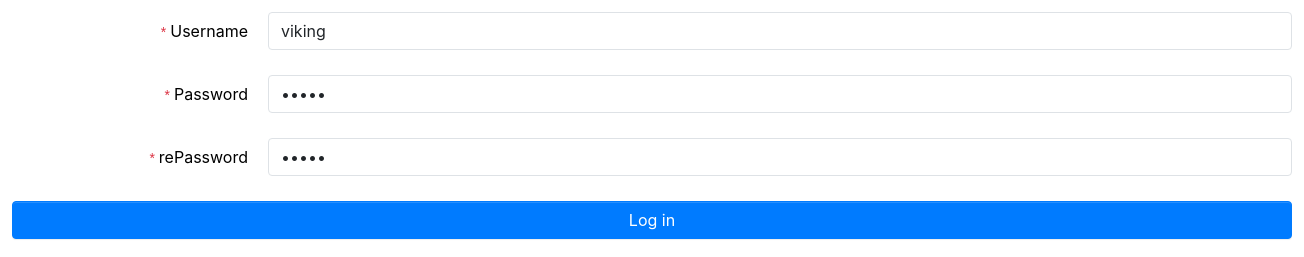
testing Form component › submit form with invaild values should show the error message
Clear the field showing "viking" at (780, 31), box [268,12,1292,50]
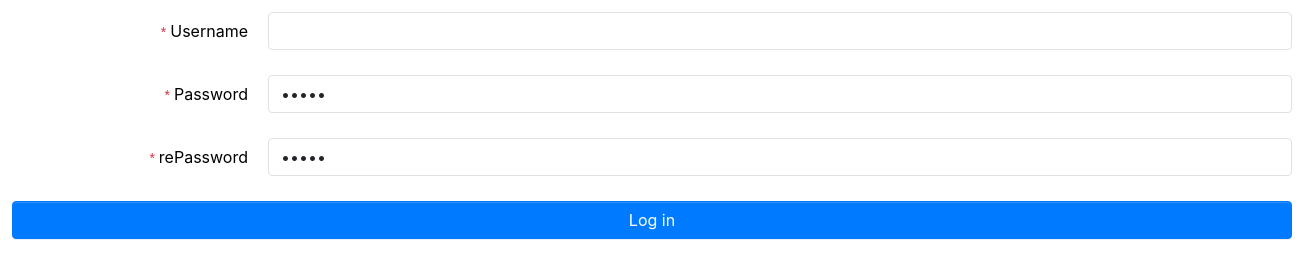
Clear the 1st password field showing "12345" at (780, 94), box [268,75,1292,113]
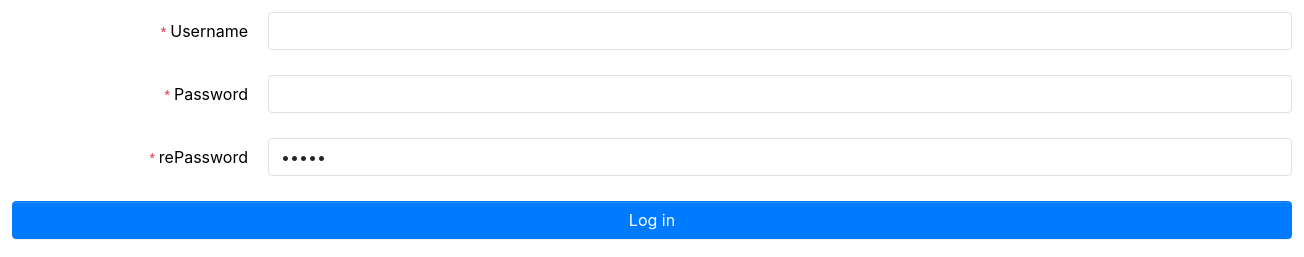
Click the button "Log in" at (652, 220), box [12,201,1292,239]
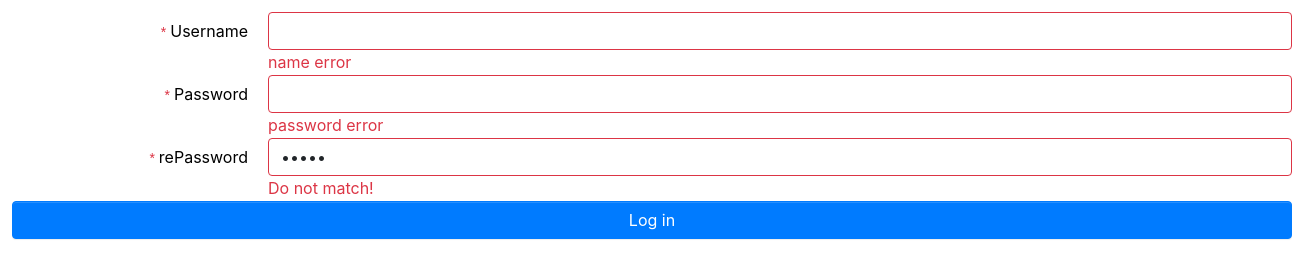
Expected: the text "name error" is shown, [268,52,351,72]
Expected: the text "password error" is shown, [268,115,383,135]
